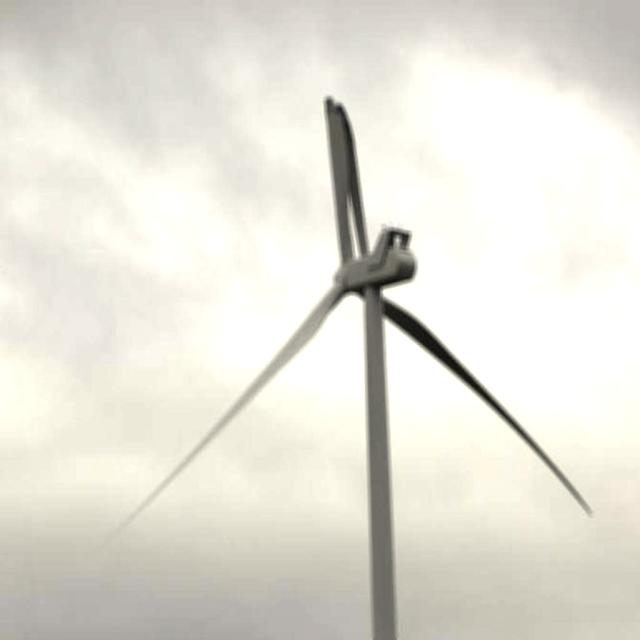crack: (312, 81, 394, 278)
